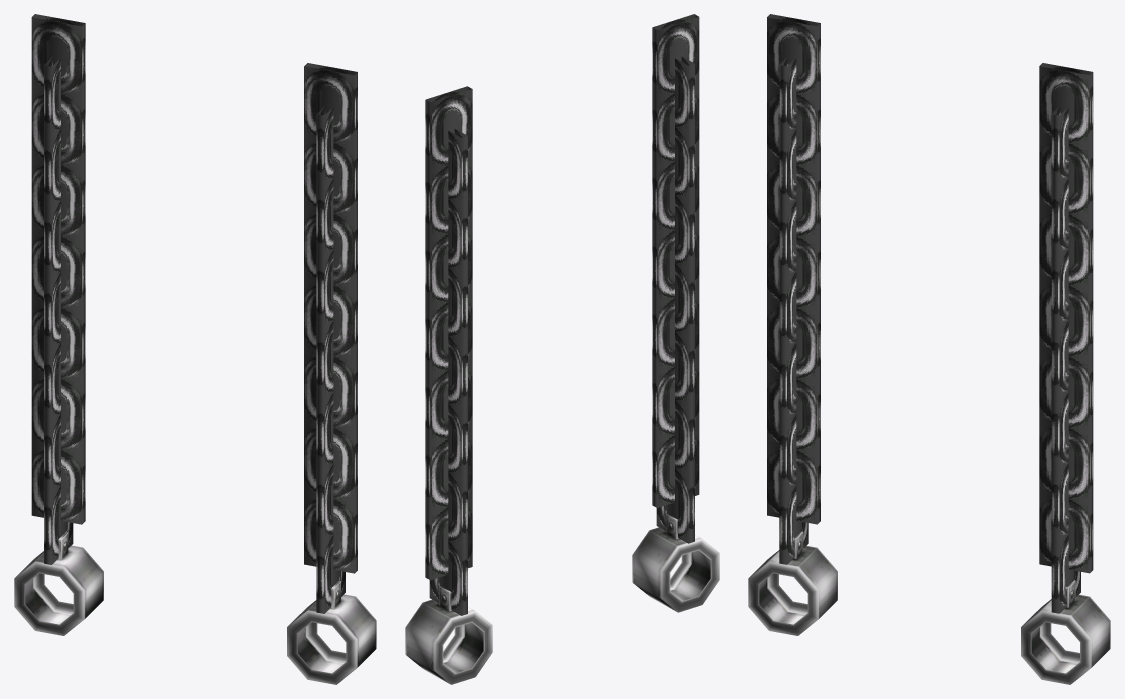
The model's file is SWORDLIGHT20_INST_CHAINCUFFS_LOD1_04.fbx.
3 renders of one model, left to right at view 1: azimuth 90°, elevation 25°; view 2: azimuth 150°, elevation 25°; view 3: azimuth 270°, elevation 25°, orthographic. The views are drawn at different scales.
Visible parts, largest first — view 1: SWORDLIGHT20_INST_CHAINCUFFS_LOD1_04; view 2: SWORDLIGHT20_INST_CHAINCUFFS_LOD1_04; view 3: SWORDLIGHT20_INST_CHAINCUFFS_LOD1_04.
Boxes of the visible parts, x1,y1,x2,y2 form: SWORDLIGHT20_INST_CHAINCUFFS_LOD1_04: [14, 14, 376, 684]; SWORDLIGHT20_INST_CHAINCUFFS_LOD1_04: [405, 14, 719, 684]; SWORDLIGHT20_INST_CHAINCUFFS_LOD1_04: [748, 14, 1110, 684].
Bounding box in the file's own units: 3484 × 12114 × 6588.
2 materials, 2 textured.
